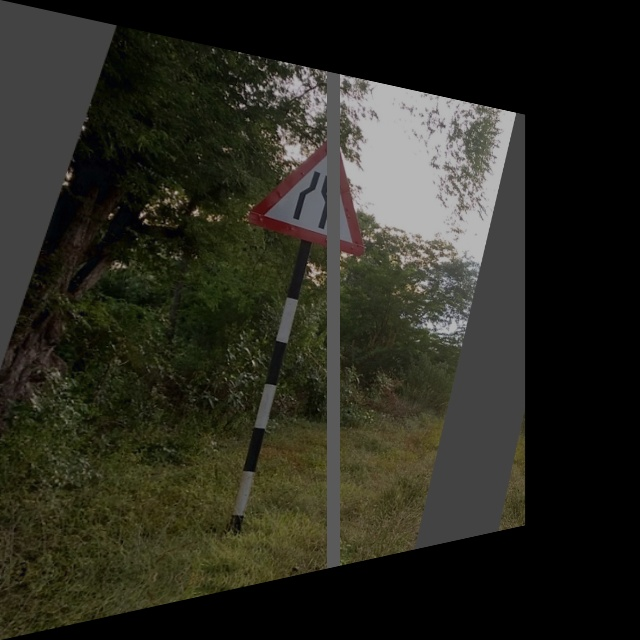Narrow_Road_Ahead: (239, 103, 390, 264)
